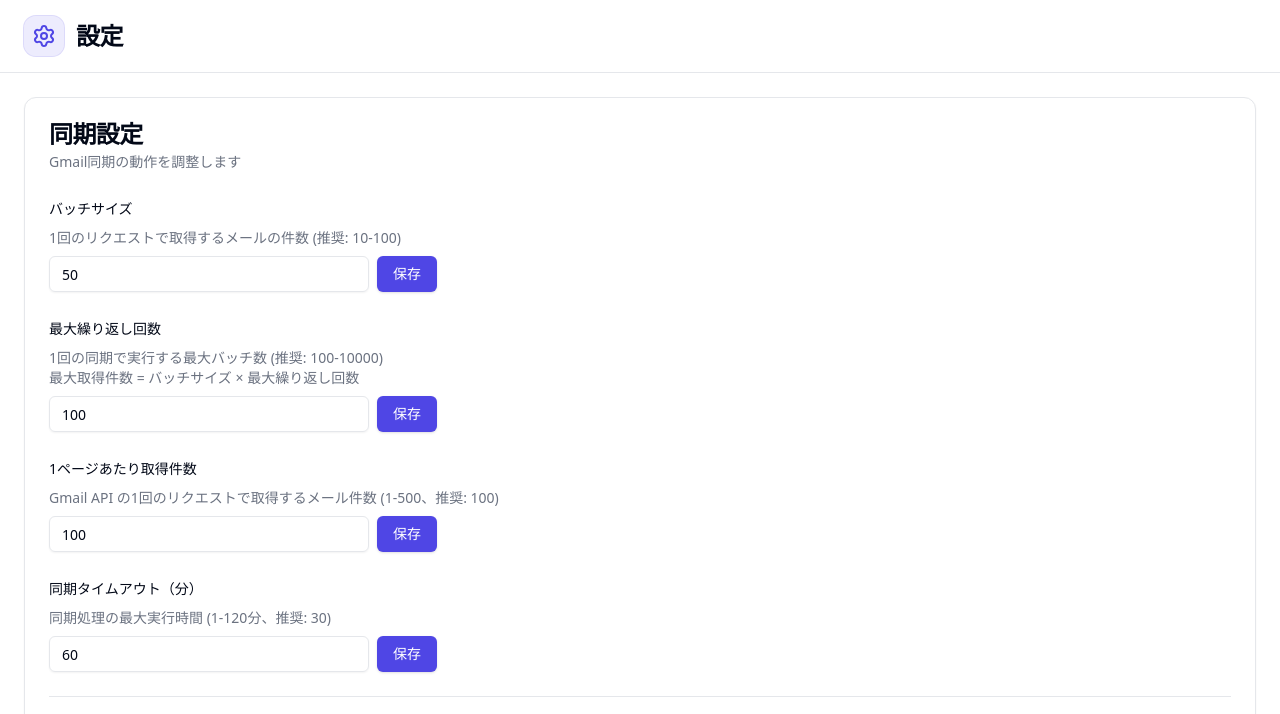
Scenario: Settings › handleSaveTimeoutMinutes › saves timeout minutes successfully
This screenshot has width=1280, height=714.
Check: the number field with id "timeout-minutes" holds "60", box top-left (49, 636), bottom-right (369, 672)
Click the button with aria-label "同期タイムアウトを保存" at coordinates (407, 654), box top-left (377, 636), bottom-right (437, 672)
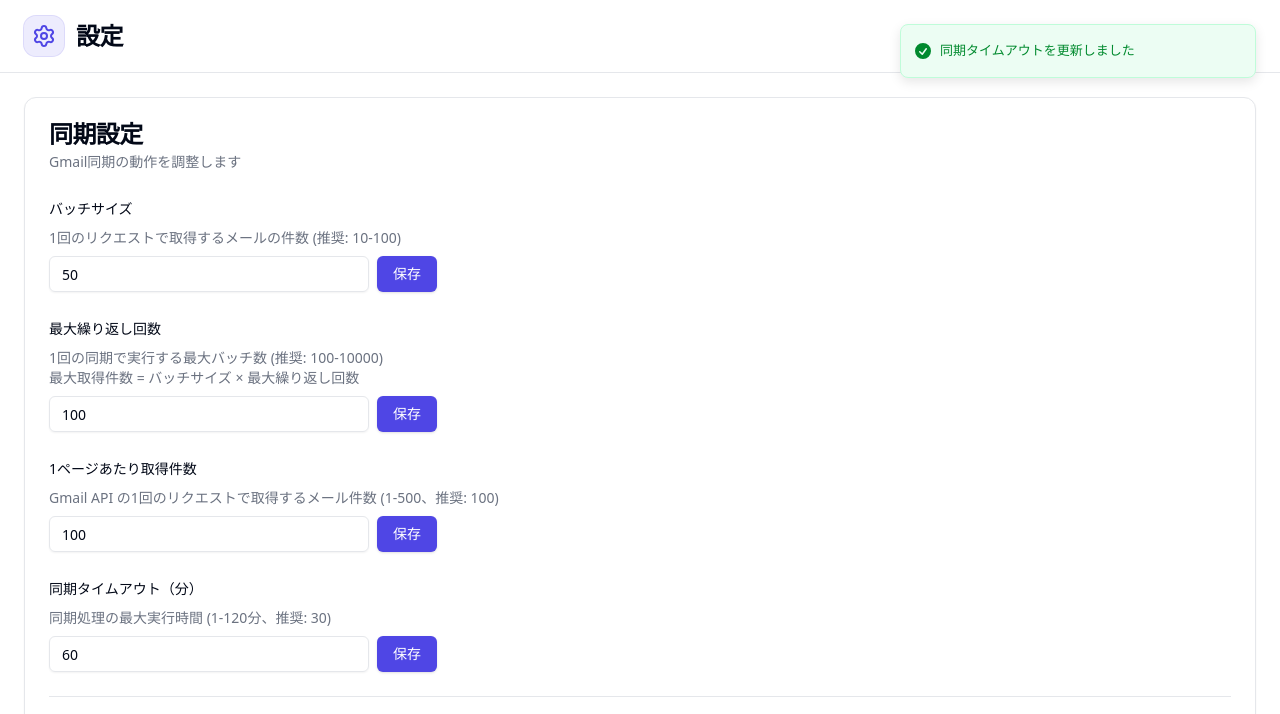
Check: the text "同期タイムアウトを更新しました" is shown, box top-left (940, 41), bottom-right (1135, 60)
